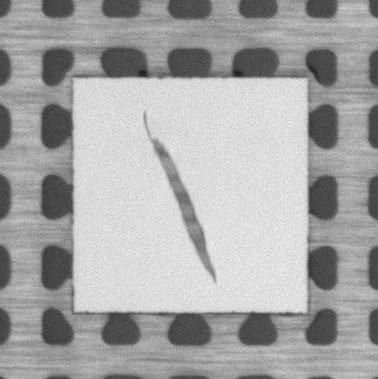DIE_INK: (126, 98, 233, 297)
